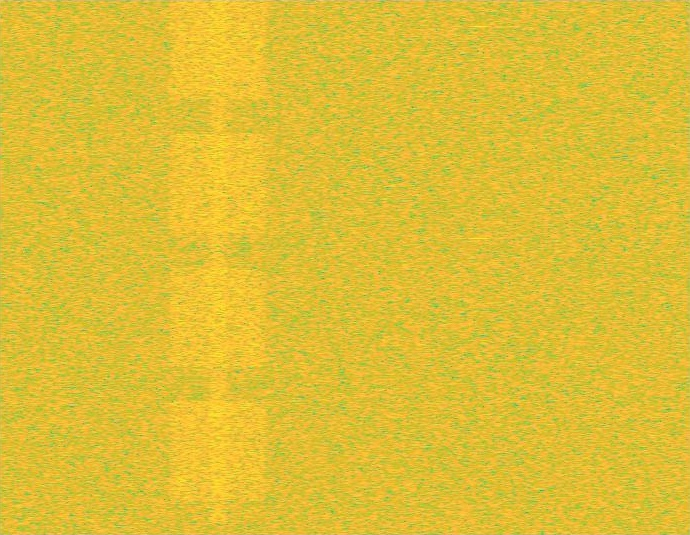5G: (166, 0, 270, 534)
DSSS: (207, 0, 230, 534)
Radar: (472, 0, 485, 534)
